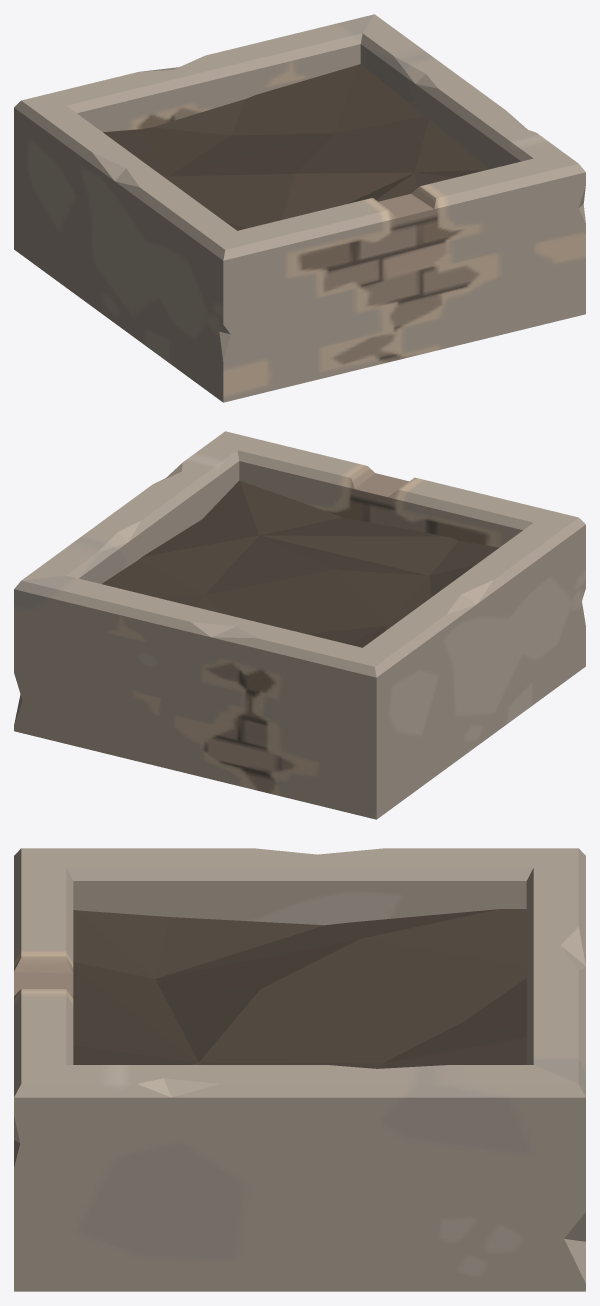
Rendered from SM_Bld_Village_Planter_01.fbx.
The picture shows the model from 3 angles, top to bottom: view 1: azimuth 30°, elevation 25°; view 2: azimuth 150°, elevation 25°; view 3: azimuth 270°, elevation 25°; orthographic projection. The views are drawn at different scales.
Parts seen in each view (by area): view 1: SM_Bld_Village_Planter_01; view 2: SM_Bld_Village_Planter_01; view 3: SM_Bld_Village_Planter_01.
Part boxes in pixels (left/top/right/bottom): SM_Bld_Village_Planter_01: left=14, top=14, right=585, bottom=402; SM_Bld_Village_Planter_01: left=14, top=431, right=585, bottom=819; SM_Bld_Village_Planter_01: left=14, top=848, right=585, bottom=1291.
Bounding box in the file's own units: 240 × 94.68 × 240.
